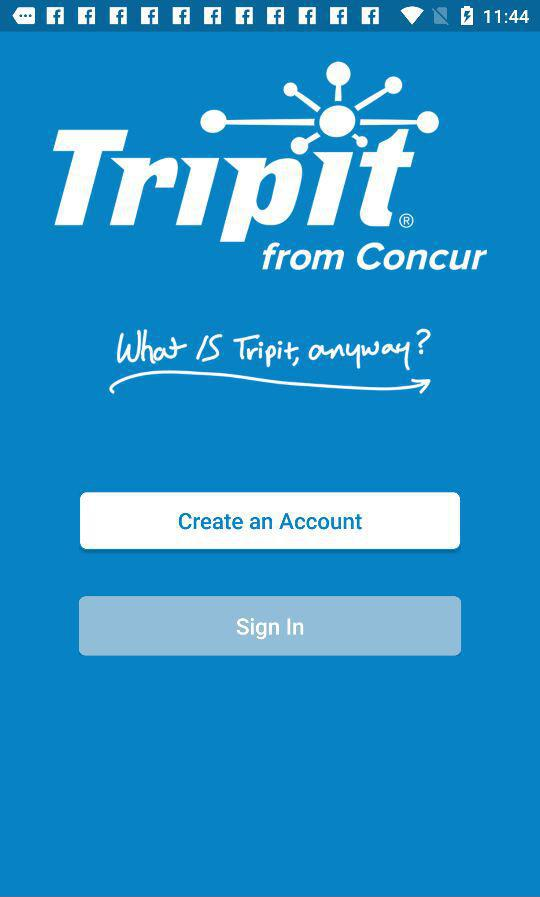Image: (52, 61, 488, 271), (109, 328, 432, 396)
TextButton: (80, 596, 462, 657), (81, 492, 461, 550)
UpperTaskBar: (1, 1, 540, 33)
